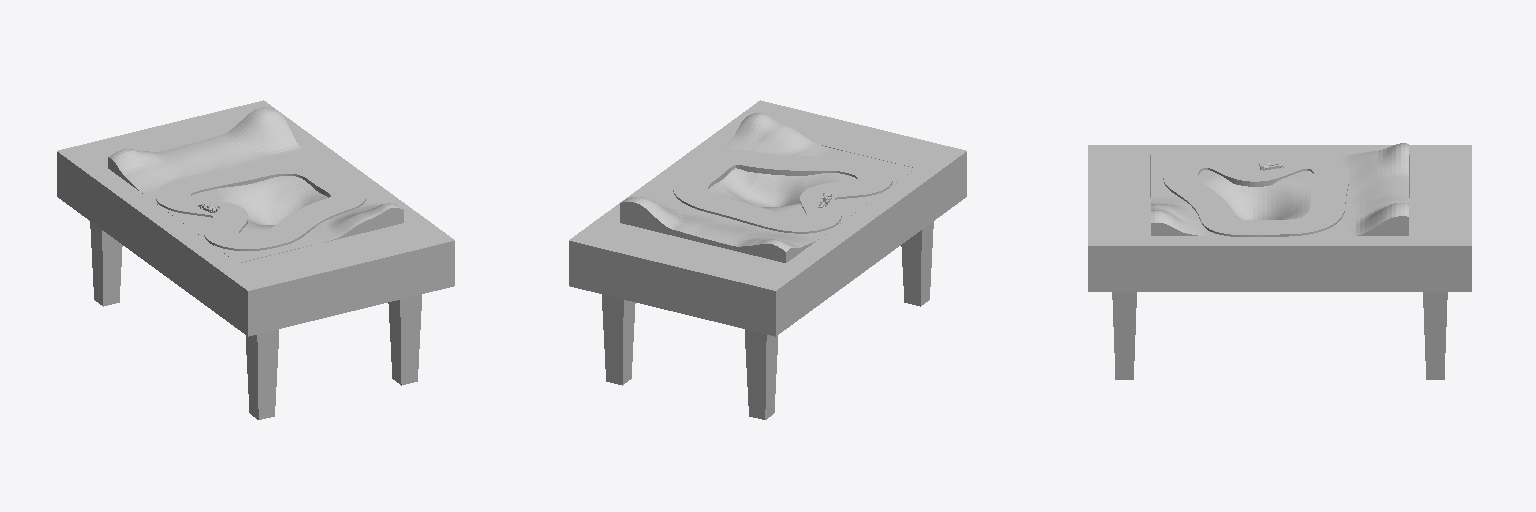
File: NewestTisch79.obj
The picture shows the model from 3 angles: view 1: azimuth 30°, elevation 25°; view 2: azimuth 150°, elevation 25°; view 3: azimuth 270°, elevation 25°; orthographic projection.
Parts seen in each view (by area): view 1: Tischplatte_wood_table_001, Landschaft_aerial_grass_rock, off, Bein1_wood_table_001, Bein4_wood_table_001.003, Bein3_wood_table_001.002; view 2: Tischplatte_wood_table_001, Landschaft_aerial_grass_rock, off, Bein2_wood_table_001.001, Bein3_wood_table_001.002, Bein4_wood_table_001.003; view 3: Tischplatte_wood_table_001, Landschaft_aerial_grass_rock, off, Bein1_wood_table_001, Bein2_wood_table_001.001.
Boxes of the visible parts, x1=… form: Tischplatte_wood_table_001: x1=57, y1=100, x2=454, y2=336; Landschaft_aerial_grass_rock: x1=108, y1=107, x2=403, y2=262; off: x1=156, y1=159, x2=365, y2=250; Bein1_wood_table_001: x1=388, y1=294, x2=421, y2=385; Bein4_wood_table_001.003: x1=246, y1=329, x2=278, y2=419; Bein3_wood_table_001.002: x1=90, y1=221, x2=122, y2=306; Tischplatte_wood_table_001: x1=569, y1=100, x2=966, y2=336; Landschaft_aerial_grass_rock: x1=620, y1=113, x2=915, y2=262; off: x1=673, y1=150, x2=892, y2=233; Bein2_wood_table_001.001: x1=602, y1=294, x2=635, y2=385; Bein3_wood_table_001.002: x1=745, y1=329, x2=777, y2=419; Bein4_wood_table_001.003: x1=901, y1=221, x2=933, y2=306; Tischplatte_wood_table_001: x1=1088, y1=145, x2=1471, y2=291; Landschaft_aerial_grass_rock: x1=1151, y1=143, x2=1408, y2=235; off: x1=1163, y1=153, x2=1348, y2=236; Bein1_wood_table_001: x1=1112, y1=292, x2=1136, y2=379; Bein2_wood_table_001.001: x1=1423, y1=292, x2=1447, y2=379.
Size of the model in its own units: 5 by 3.91 by 8.